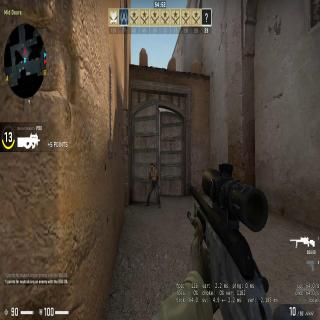T-Body: (145, 162, 162, 209)
T-Head: (150, 163, 154, 170)
